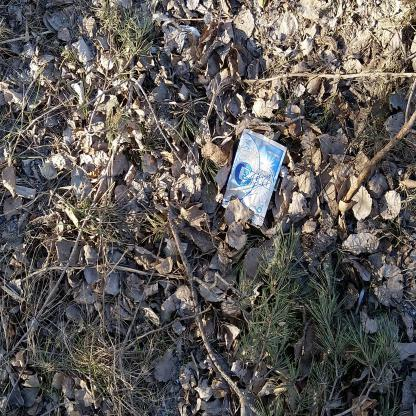plastik: (223, 130, 289, 228)
